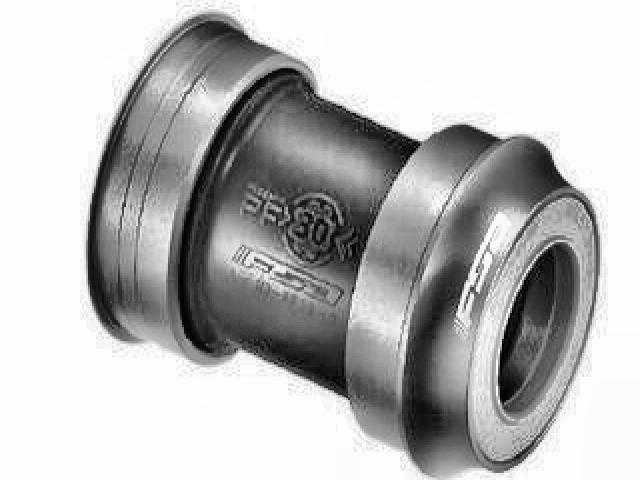bottom_bracket: (80, 7, 602, 480)
